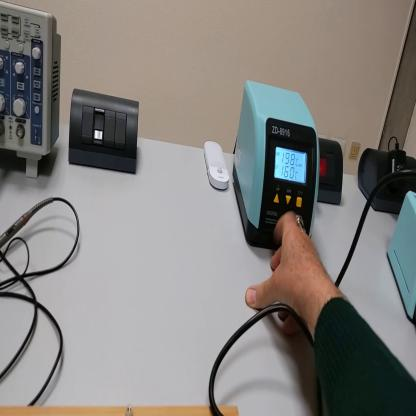hand: (245, 215, 326, 328)
oscilloscope: (2, 3, 64, 179)
oscilloscope probe tip: (2, 197, 55, 249)
socket: (357, 143, 416, 216), (318, 136, 344, 209)
welder base: (382, 193, 416, 324)
welder station: (233, 80, 321, 251)
working area: (2, 404, 240, 414)
